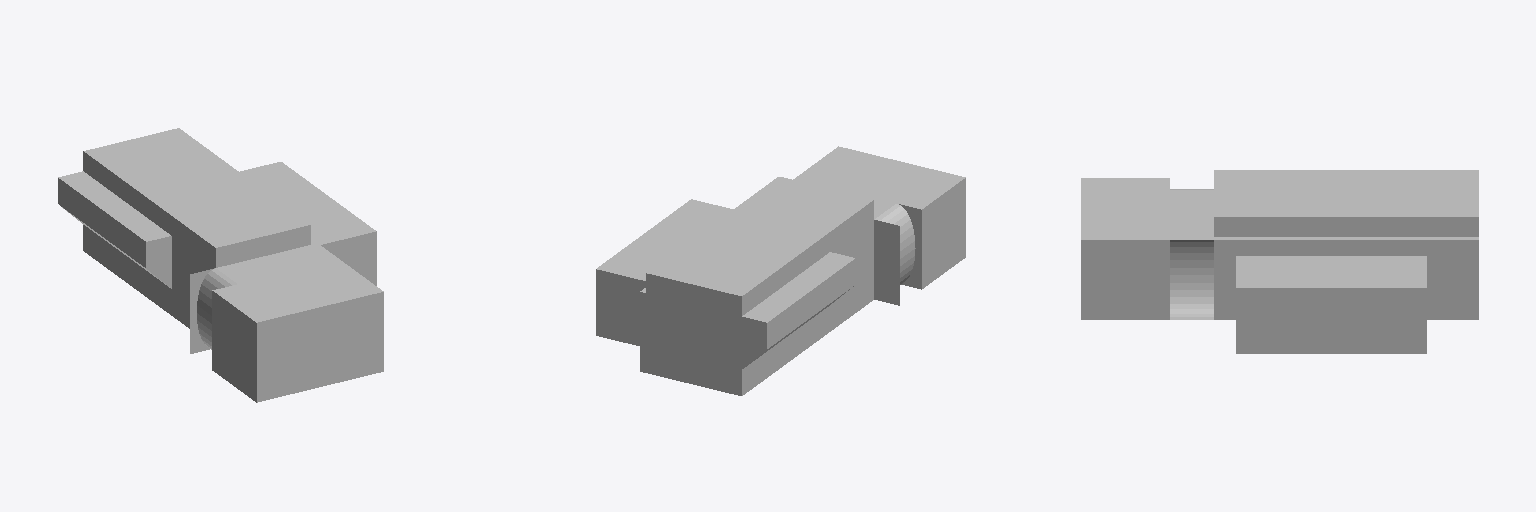
The model's file is station.obj.
3 renders of one model, left to right at view 1: azimuth 30°, elevation 25°; view 2: azimuth 150°, elevation 25°; view 3: azimuth 270°, elevation 25°, orthographic.
Visible parts, largest first — view 1: basestation; view 2: basestation; view 3: basestation.
Boxes of the visible parts, <box> form: basestation: <box>58,128,383,402</box>; basestation: <box>596,146,965,395</box>; basestation: <box>1081,170,1478,353</box>.
Size of the model in its own units: 28.27 by 13.68 by 49.25.